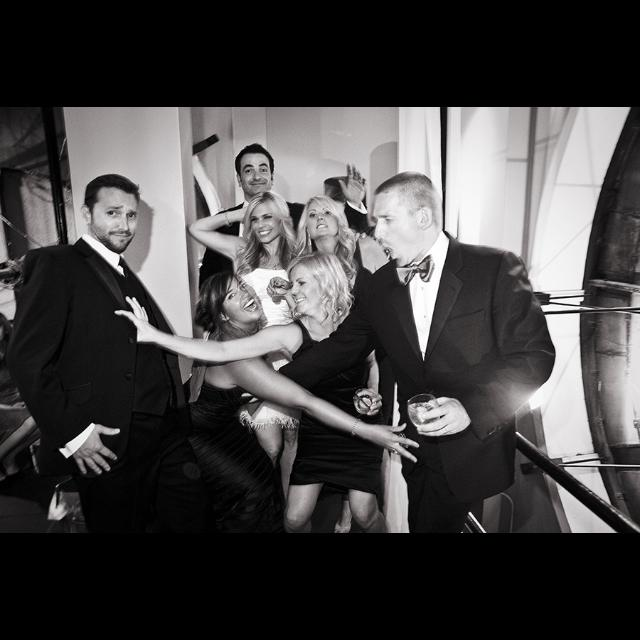head: (370, 170, 442, 270), (82, 176, 142, 252), (288, 252, 344, 316), (205, 272, 263, 324), (246, 190, 290, 246), (303, 196, 345, 244), (236, 149, 276, 197)
